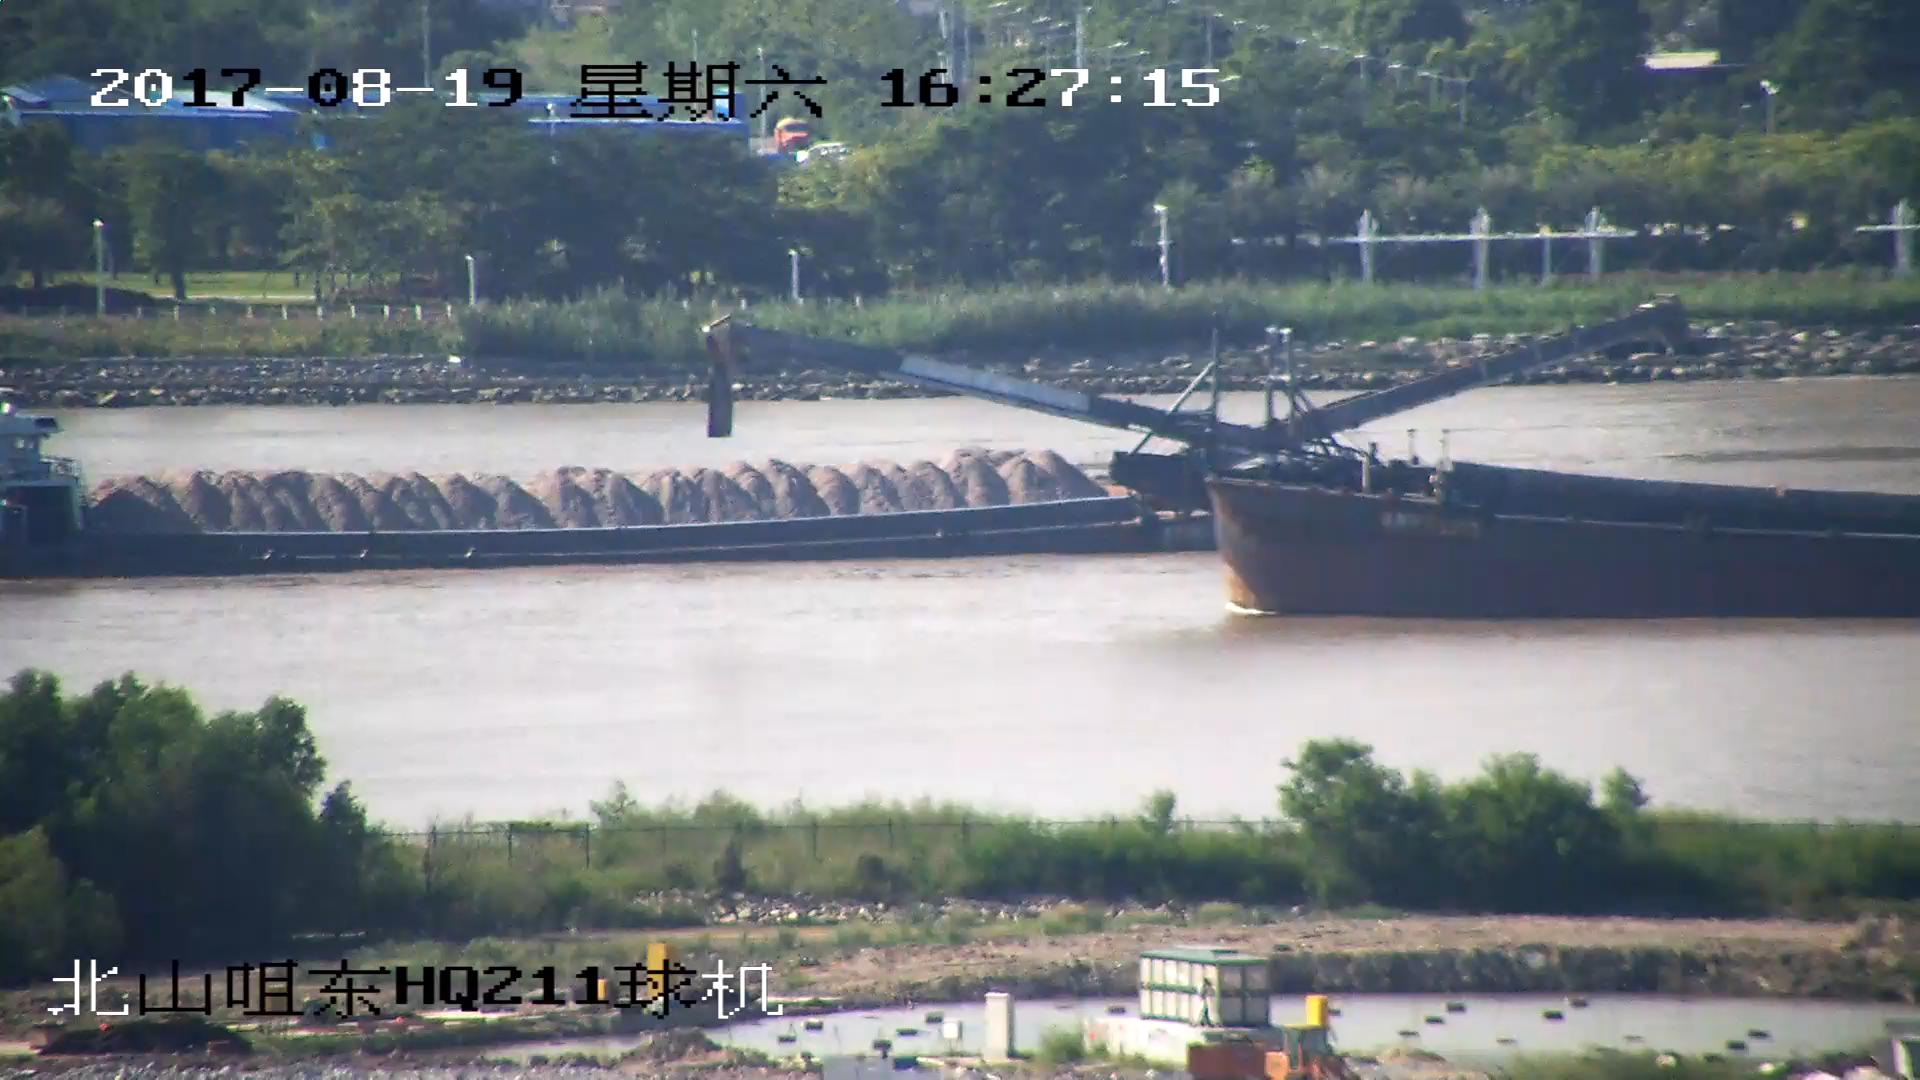bulk cargo carrier: (695, 320, 1920, 623)
ore carrier: (1, 294, 1678, 585)
